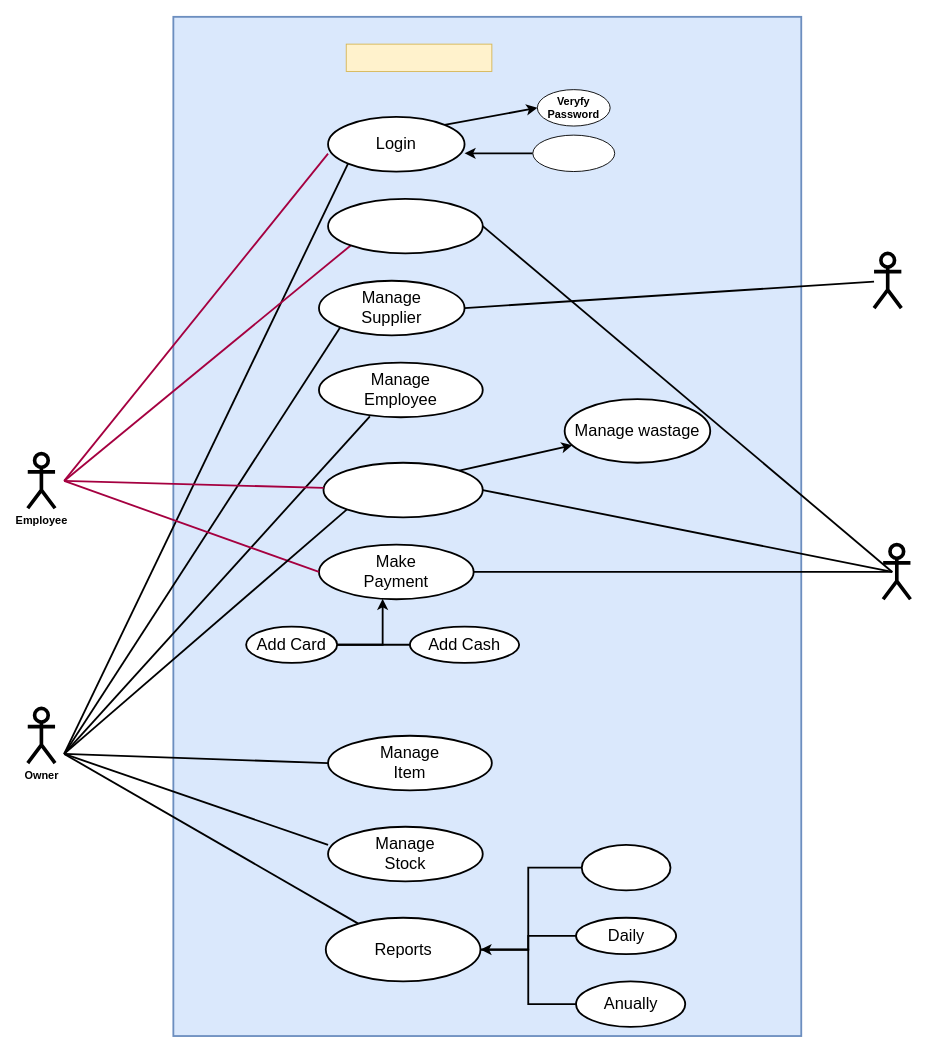
Image size: 938x1052. Some labels were removed from this diagram. The centre of each missing label's shape, as x and y in pixels:
"Customer" goes at [896,571].
"Manage Customer" goes at [405,225].
"Manage Order" goes at [402,489].
"Monthly" goes at [625,867].
"Shan Hardware System" goes at [418,57].
"Show error" goes at [573,153].
"Supplier" goes at [887,280].
